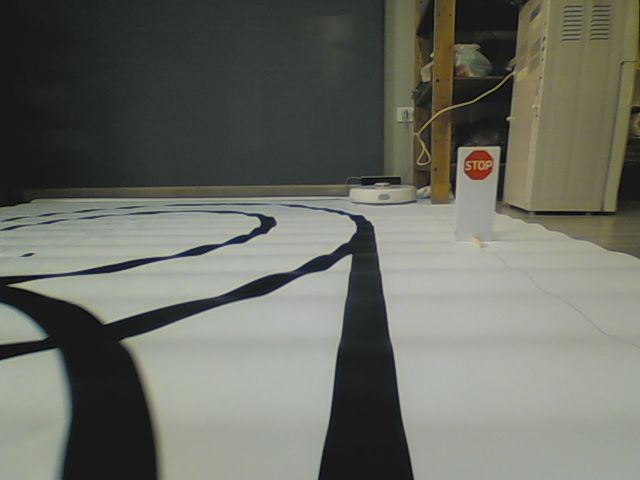Stop: (463, 149, 494, 180)
